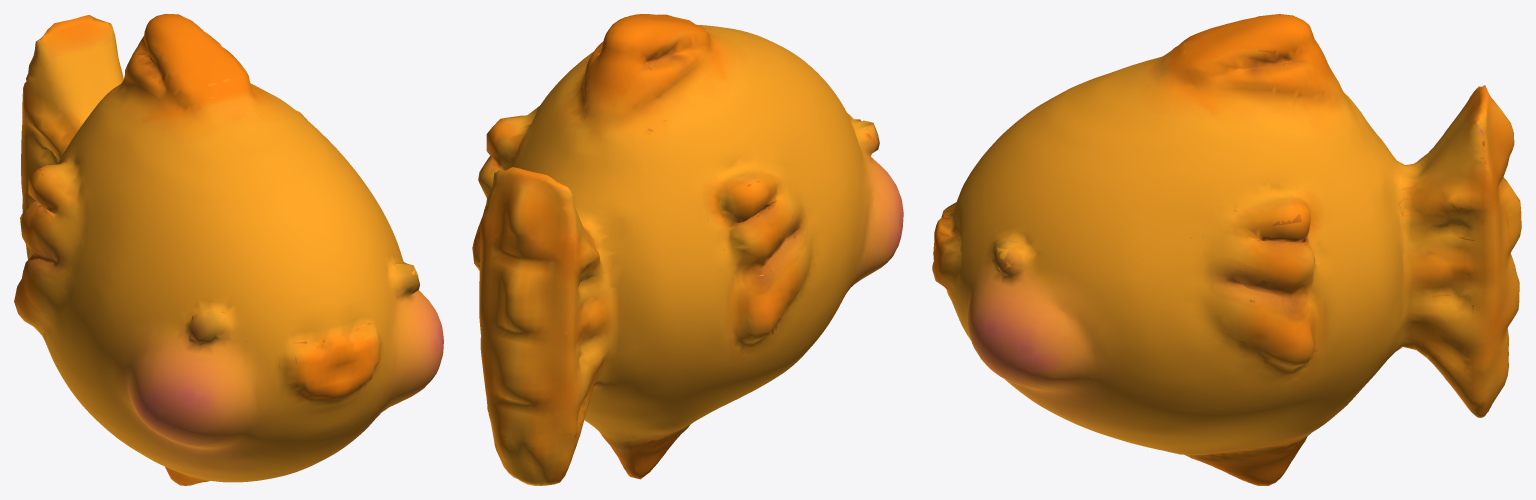
Rendered from FISHI.glb.
3 renders of one model, left to right at view 1: azimuth 30°, elevation 25°; view 2: azimuth 150°, elevation 25°; view 3: azimuth 270°, elevation 25°, orthographic.
Parts seen in each view (by area): view 1: Sphere.001; view 2: Sphere.001; view 3: Sphere.001.
Part boxes in pixels (box(x1,y1,x2,y2)): Sphere.001: box(14, 14, 443, 485); Sphere.001: box(472, 14, 903, 485); Sphere.001: box(932, 14, 1521, 485).
Bounding box in the file's own units: 3.21 × 4.6 × 5.28.
1 material, 1 textured.
